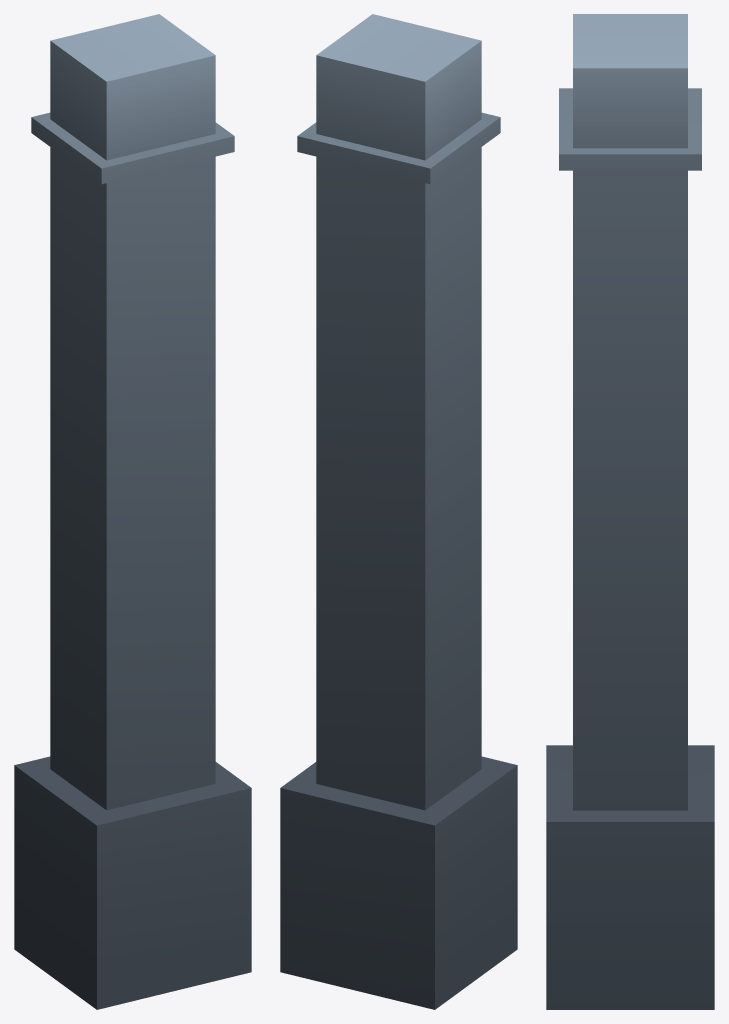
File: Pillars_02.fbx
3 renders of one model, left to right at view 1: azimuth 30°, elevation 25°; view 2: azimuth 150°, elevation 25°; view 3: azimuth 270°, elevation 25°, orthographic.
Visible parts, largest first — view 1: Pillar 2; view 2: Pillar 2; view 3: Pillar 2.
Boxes of the visible parts, x1=… form: Pillar 2: x1=14, y1=14, x2=251, y2=1009; Pillar 2: x1=280, y1=14, x2=517, y2=1009; Pillar 2: x1=546, y1=14, x2=714, y2=1009.
Size of the model in its own units: 53.16 by 300 by 49.23.
